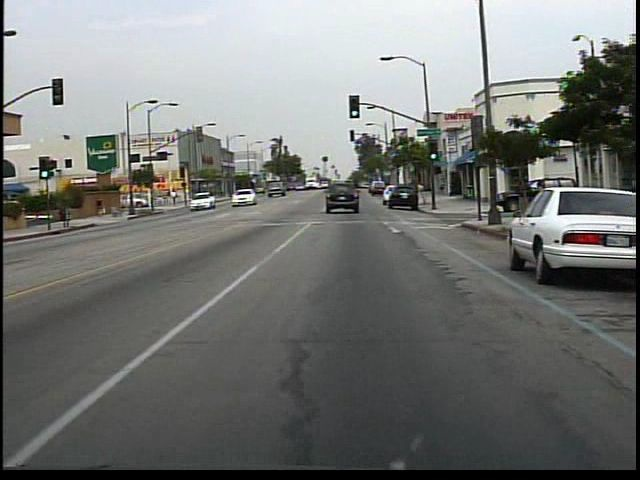person: (503, 171, 535, 230), (94, 192, 113, 221), (171, 187, 180, 208)
